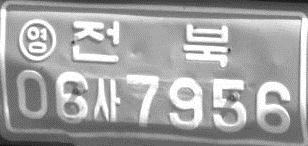0: (15, 69, 48, 120)
5: (210, 76, 246, 132)
6: (254, 80, 291, 133), (53, 71, 88, 125)
7: (126, 73, 158, 129)
9: (167, 76, 204, 131)
사: (92, 76, 120, 124)
영: (17, 17, 57, 62)
전북_D: (71, 21, 229, 67)
